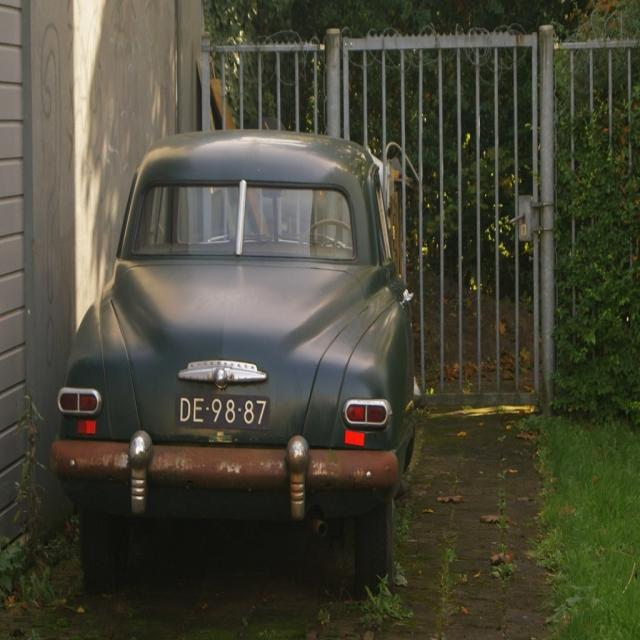car: (48, 128, 422, 598)
